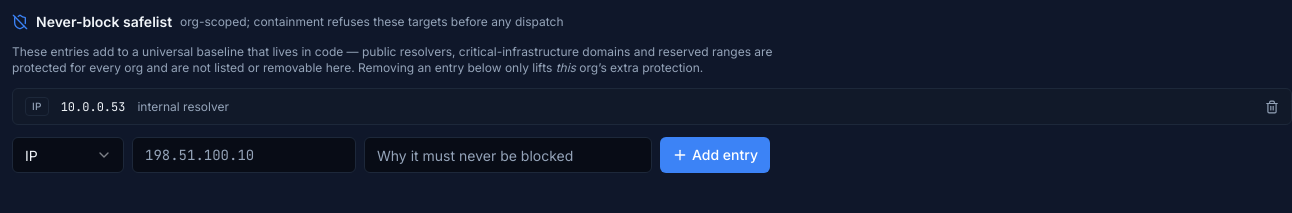
Test case: SafelistPanel › surfaces the server's validation message rather than guessing at one
The image size is (1292, 213).
Expected: the list with test id "safelist-list" is shown, [12,88,1291,125]
Type "999.1.1.1" into the field with test id "safelist-add-value" at (244, 155), box [132,137,356,173]
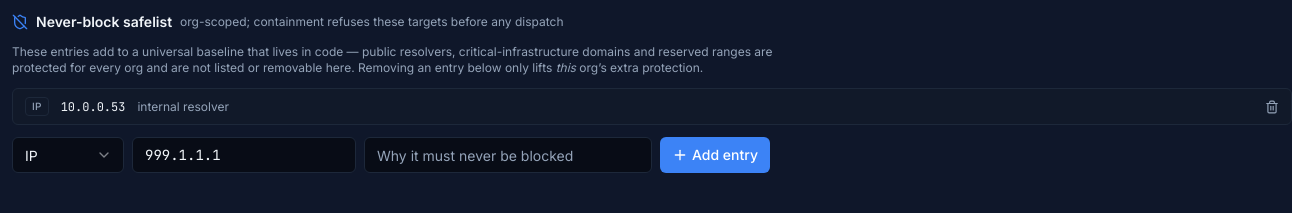
Type "typo" into the field with test id "safelist-add-reason" at (508, 155), box [364,137,652,173]
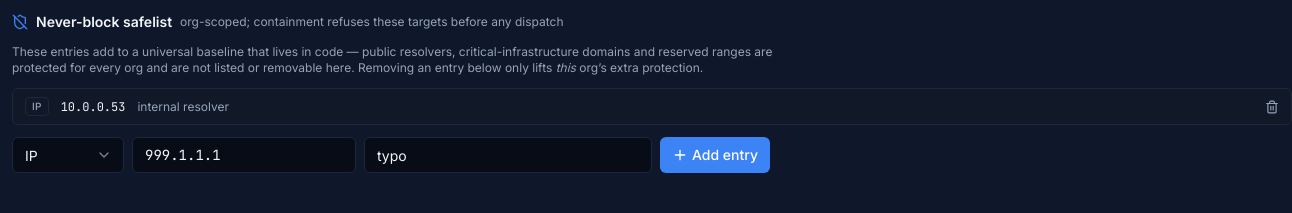
Click the button with test id "safelist-add-button" at (715, 155), box [660,137,770,173]
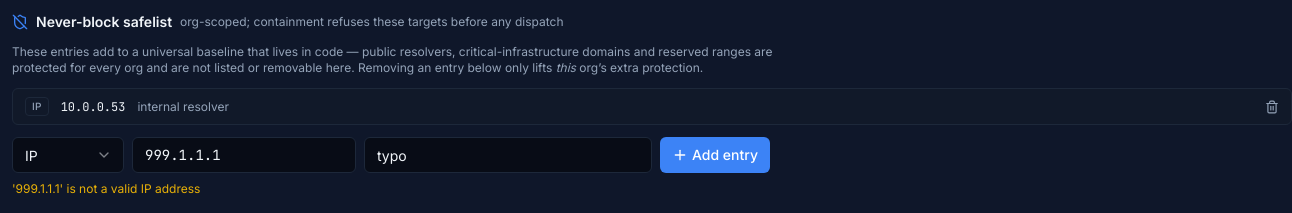
Now the message with test id "safelist-add-error" reads "'999.1.1.1' is not a valid IP address", box [12,181,200,196]
